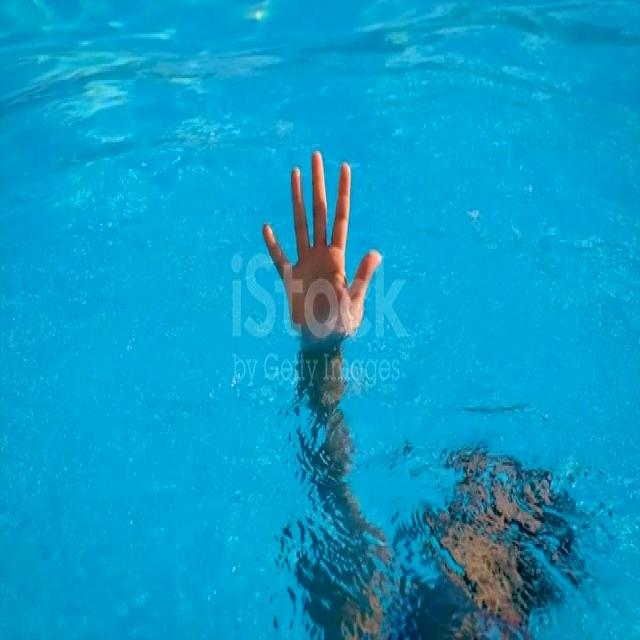Drowning: (256, 147, 593, 640)
